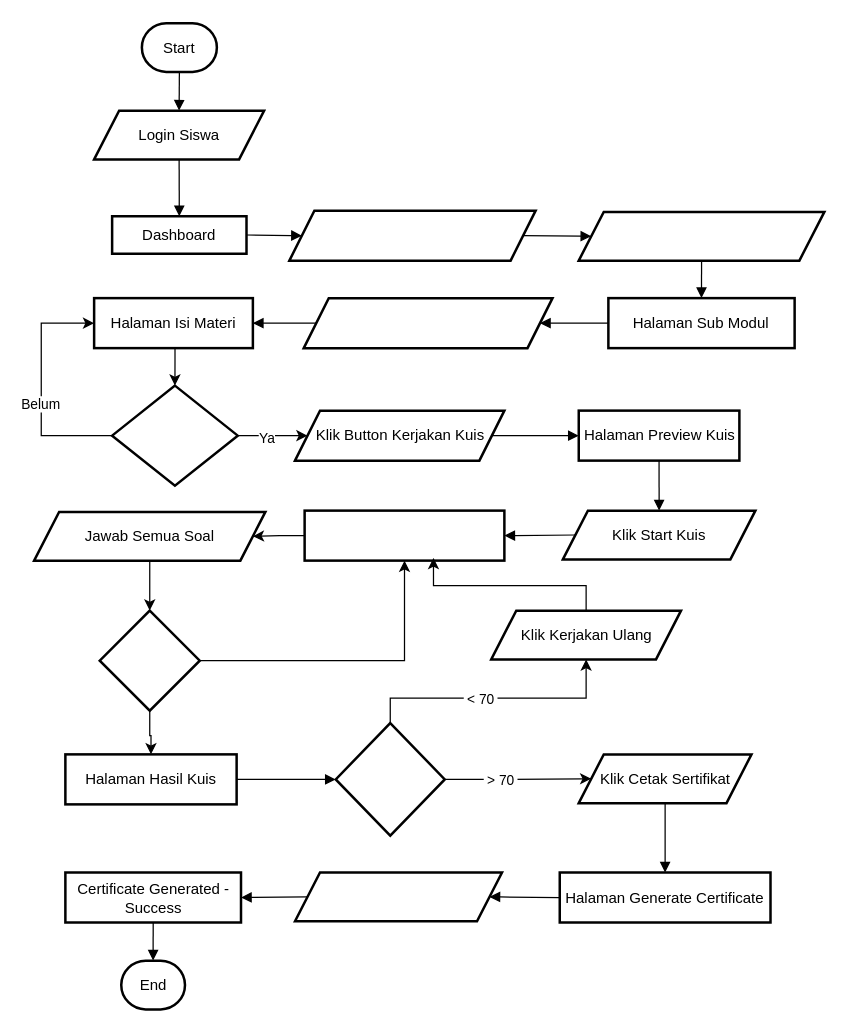
This 848x1031 diagram has some shape labels left out. Here are the shapes that lost their labels. From the top down, the centre of each, then its label:
At (x=412, y=235): "Pilih Eco Learning Module".
At (x=701, y=235): "Pilih Modul untuk Dipelajari".
At (x=427, y=322): "Mulai Belajar dari Sub Modul 1".
At (x=174, y=435): "Akhir Modul?".
At (x=404, y=535): "Halaman Pengerjaan Kuis".
At (x=149, y=660): "Klik Submit".
At (x=389, y=778): "Nilai >= 70?".
At (x=398, y=896): "Klik Generate Certificate".
